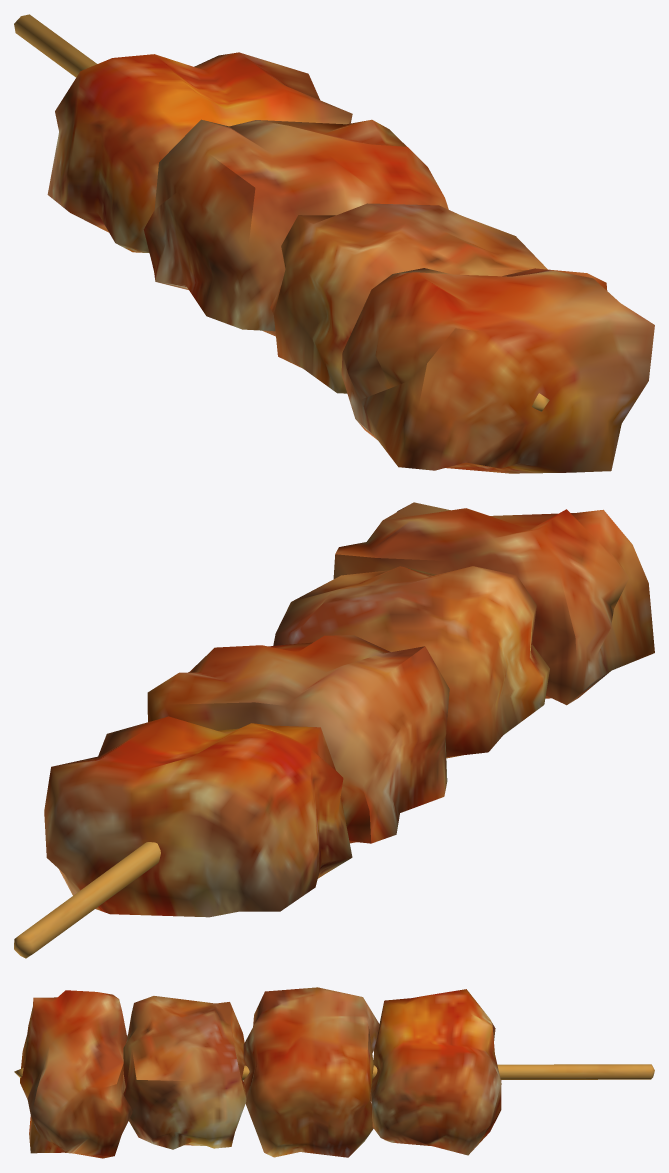
Rendered from ref_bbqskewers2.glb.
3 views of the same model, one above another, from view 1: azimuth 30°, elevation 25°; view 2: azimuth 150°, elevation 25°; view 3: azimuth 270°, elevation 25° (orthographic). The views are drawn at different scales.
Visible parts, largest first — view 1: ref_bbqskewers2_part0; view 2: ref_bbqskewers2_part0; view 3: ref_bbqskewers2_part0.
Boxes of the visible parts, x1,y1,x2,y2 form: ref_bbqskewers2_part0: (14,14,654,473); ref_bbqskewers2_part0: (14,502,654,958); ref_bbqskewers2_part0: (14,987,654,1158).
Bounding box in the file's own units: 0.2949 × 0.2217 × 1.
1 material, 1 textured.
